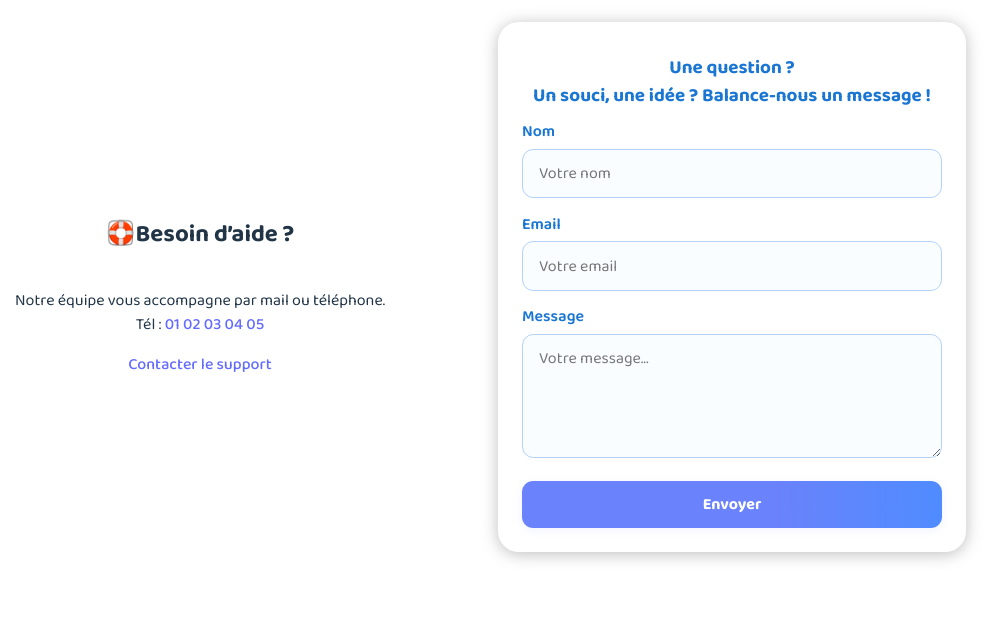
Test: ContactSupportSection › affiche les messages d’erreur et de succès
Click the button "Envoyer": (732, 504) top-left (522, 481), bottom-right (942, 528)
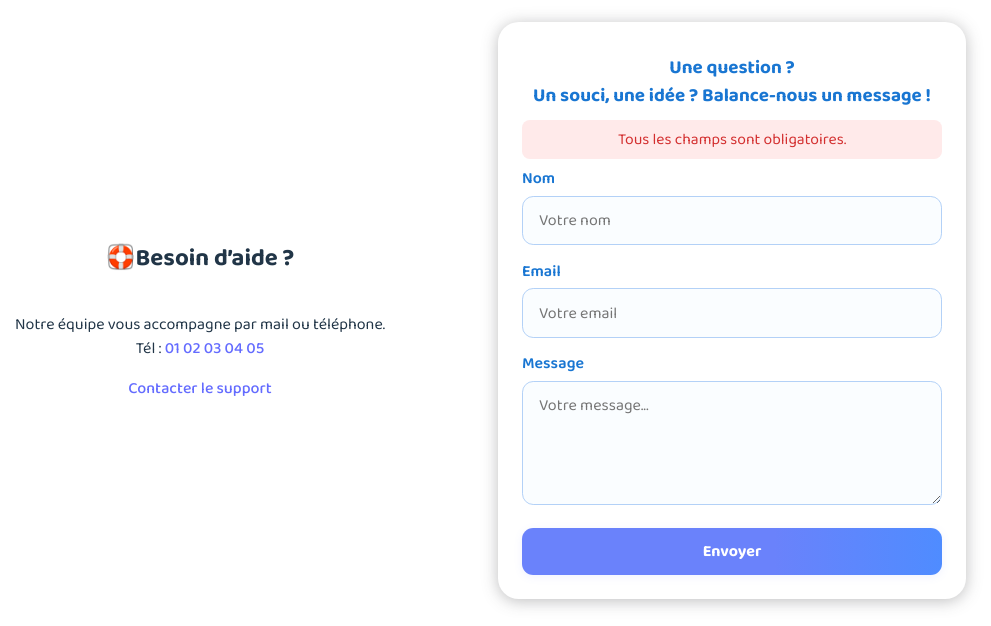
Expected: the text "Tous les champs sont obligatoires." is shown, top-left (522, 120), bottom-right (942, 159)
In the field labelled "Nom": (732, 221) top-left (522, 196), bottom-right (942, 245), type "Test"
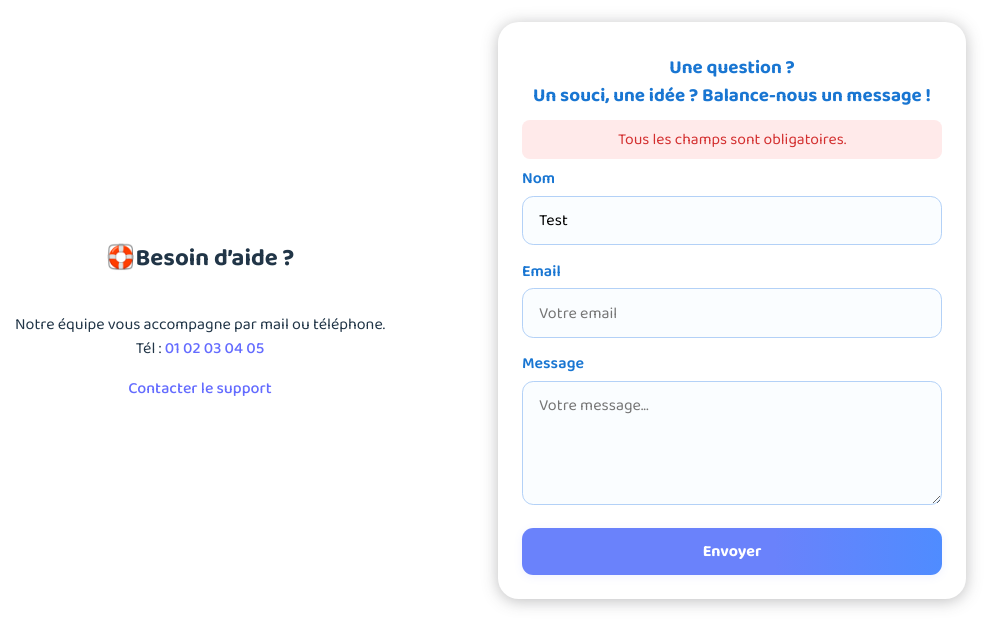
In the field labelled "Email": (732, 313) top-left (522, 288), bottom-right (942, 338), type "test@email.com"
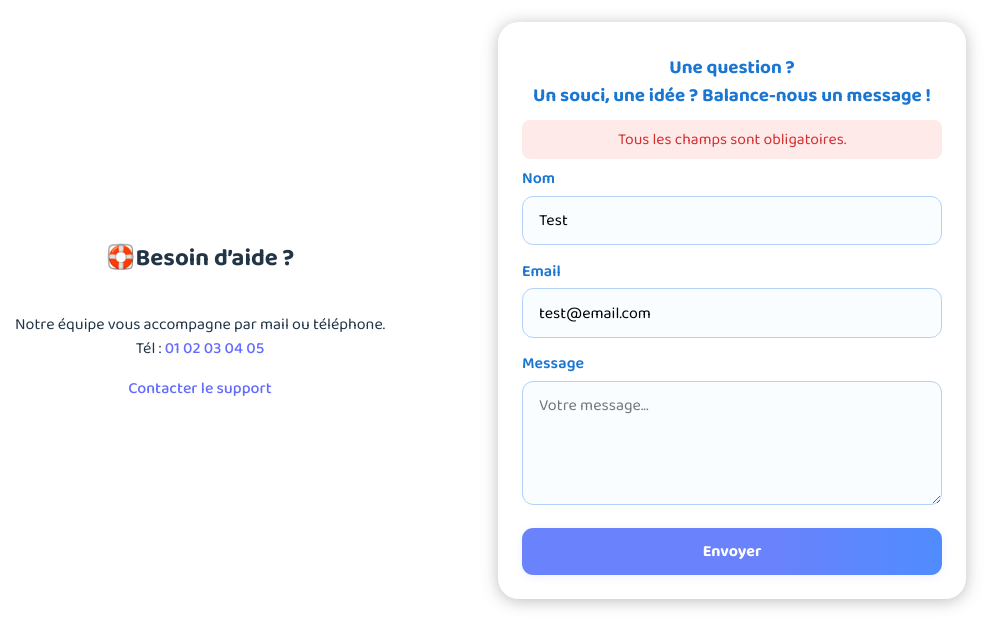
In the text box labelled "Message": (732, 443) top-left (522, 381), bottom-right (942, 505), type "Ceci est un message"
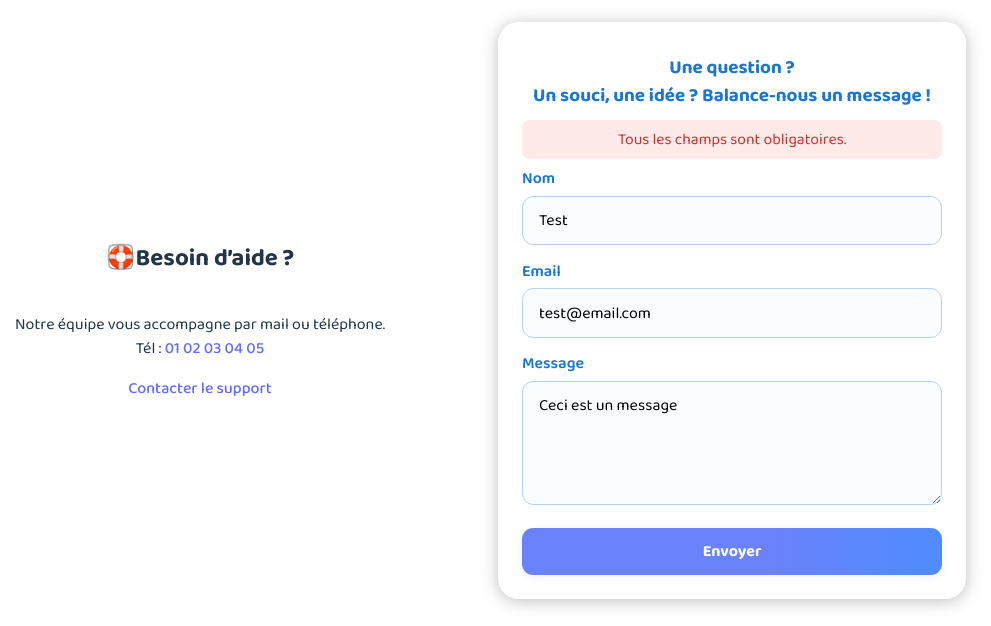
Click the button "Envoyer": (732, 551) top-left (522, 528), bottom-right (942, 575)
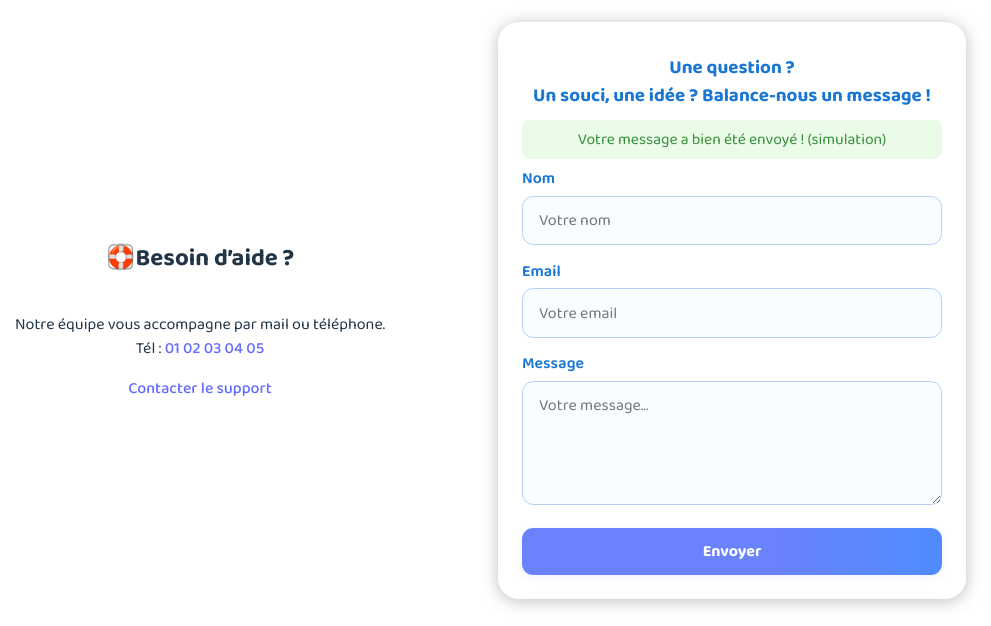
Expected: the text "Votre message a bien été envoyé ! (simulation)" is shown, top-left (522, 120), bottom-right (942, 159)
